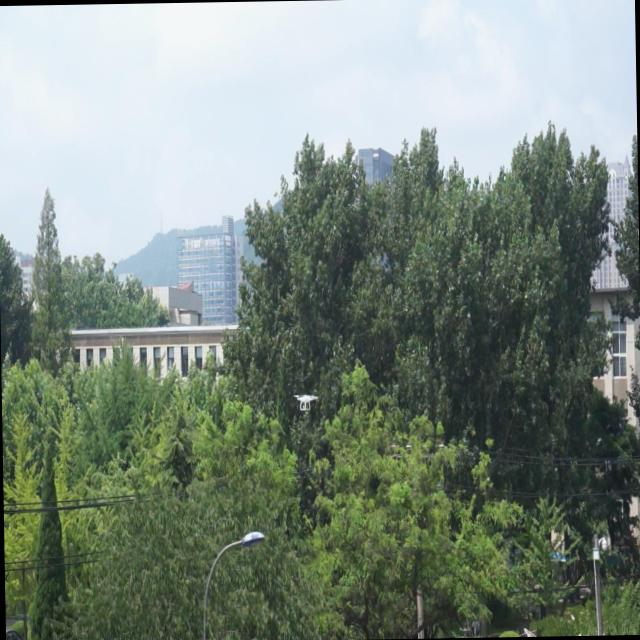drone: (290, 390, 319, 414)
